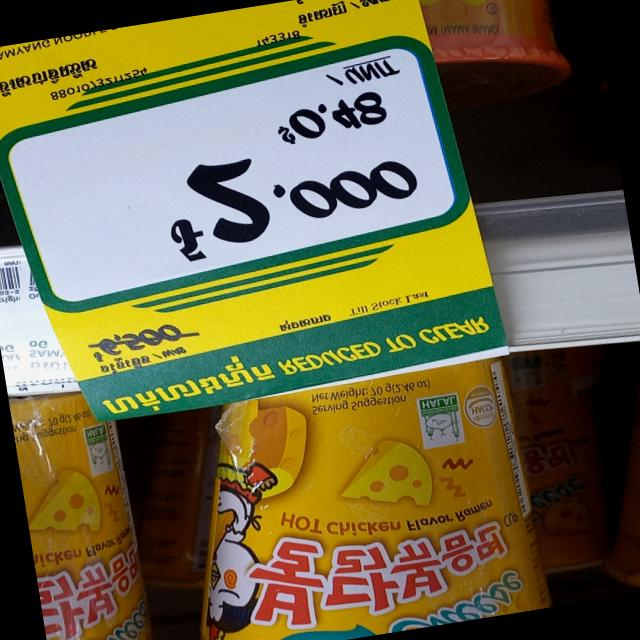198: (280, 88, 395, 150)
588: (252, 29, 303, 51)
644: (168, 142, 429, 254)
810: (93, 317, 188, 357)
856: (46, 66, 152, 104)
Yolov11_80vkh: (93, 345, 285, 421), (0, 47, 114, 101), (288, 0, 351, 32), (270, 309, 336, 338), (100, 352, 155, 380)
